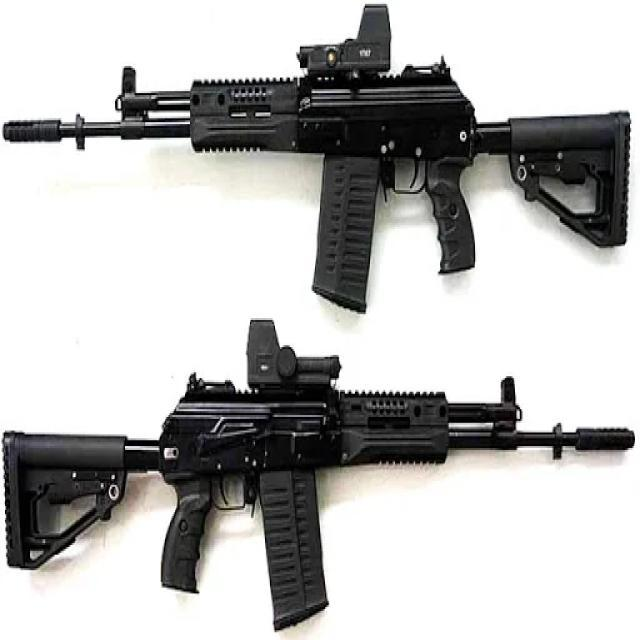weapon: (1, 317, 634, 633), (3, 3, 631, 316)
